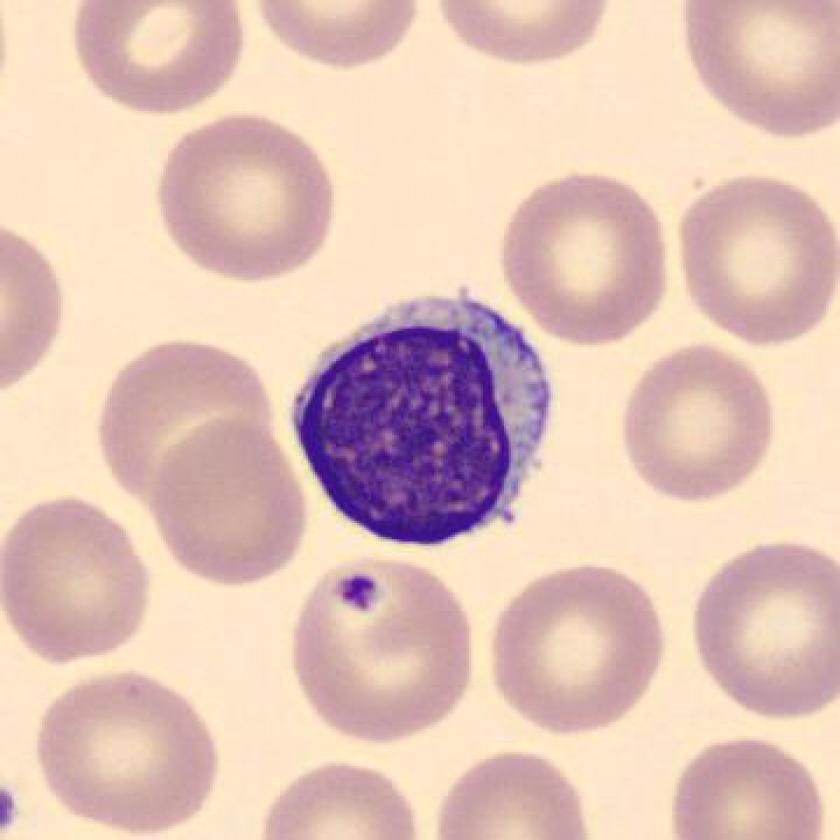lymphocyte: (276, 279, 575, 563)
